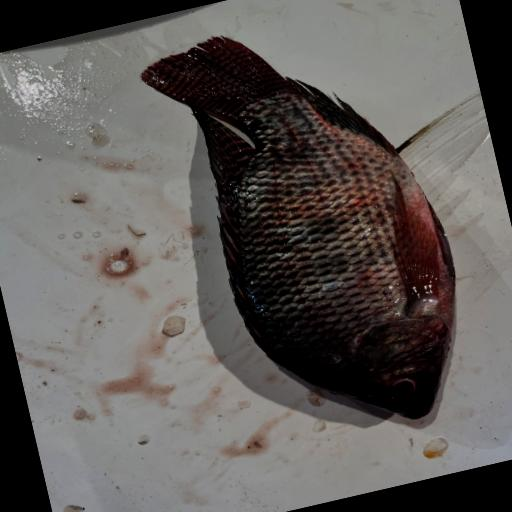Tilapia: (135, 0, 512, 463)
